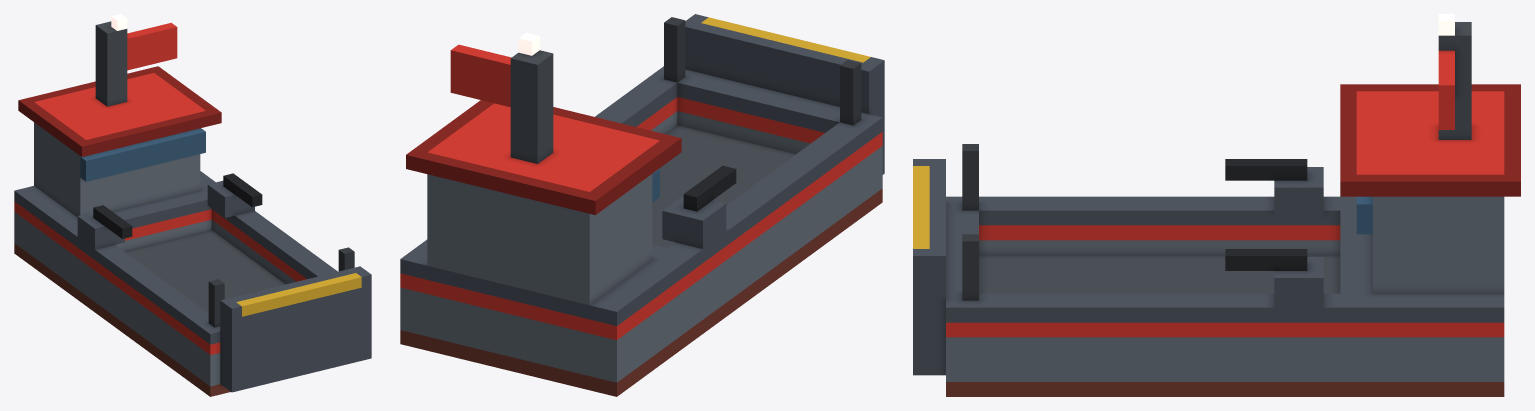
File: cm_transport_0.glb
3 renders of one model, left to right at view 1: azimuth 30°, elevation 25°; view 2: azimuth 150°, elevation 25°; view 3: azimuth 270°, elevation 25°, orthographic. The views are drawn at different scales.
Visible parts, largest first — view 1: cm_transport_0_body; view 2: cm_transport_0_body; view 3: cm_transport_0_body.
Part boxes in pixels (x1=…): cm_transport_0_body: x1=14, y1=14, x2=371, y2=396; cm_transport_0_body: x1=400, y1=14, x2=884, y2=396; cm_transport_0_body: x1=913, y1=14, x2=1520, y2=396.
Size of the model in its own units: 1 by 1.38 by 2.31.
Materials: 1 (1 with a texture image).
